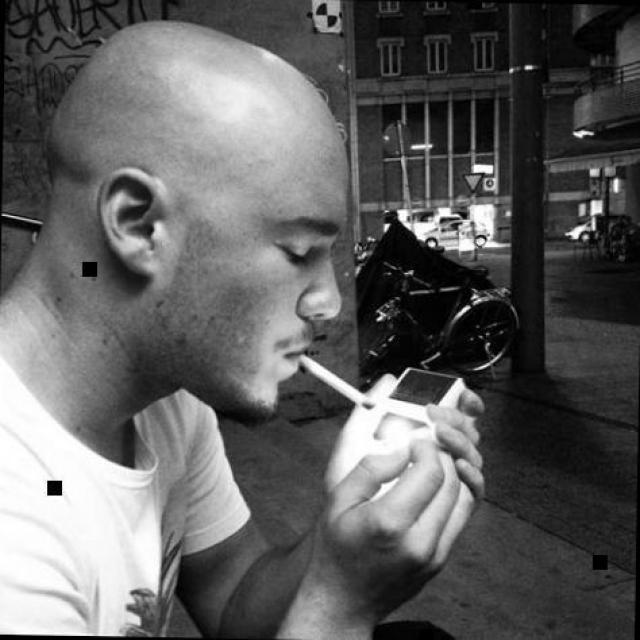smoke: (285, 340, 386, 423)
